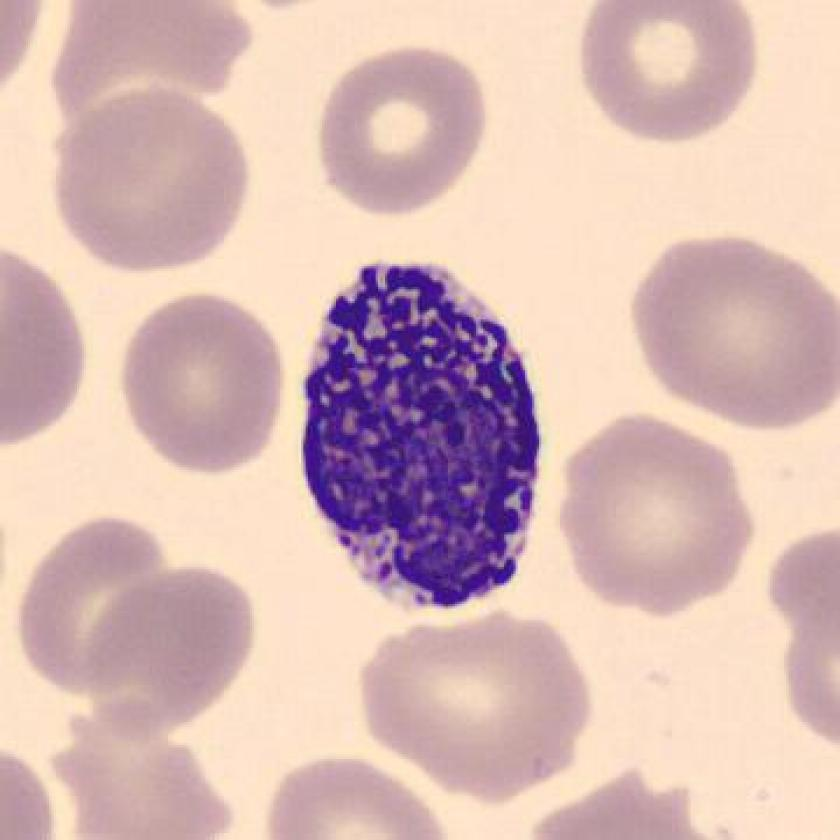basophil: (276, 233, 554, 624)
